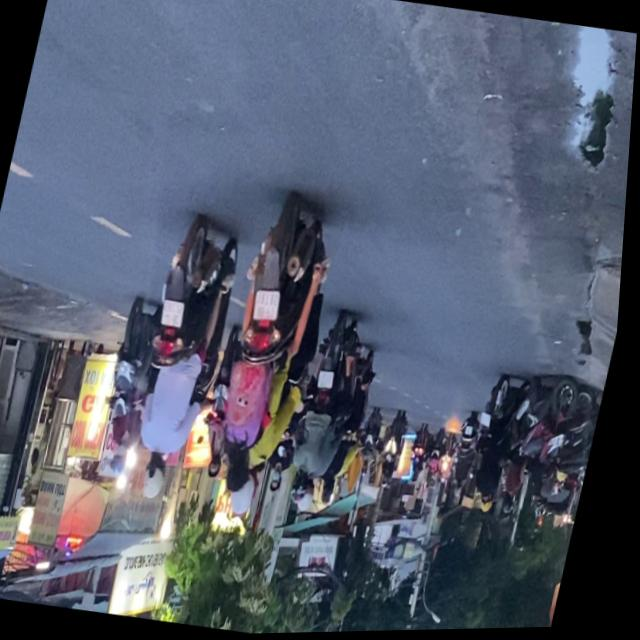helmet: (230, 471, 265, 519), (143, 454, 176, 502), (292, 472, 317, 510), (301, 482, 322, 514)
licenseplate: (196, 189, 349, 523), (119, 212, 253, 509), (284, 309, 376, 517)
motorcyclist: (224, 444, 259, 497)
nohelmet: (253, 289, 286, 324), (162, 299, 190, 329), (321, 371, 340, 392)
